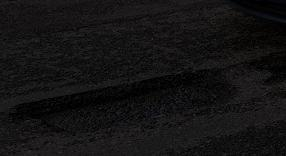pothole: (4, 56, 241, 148)
